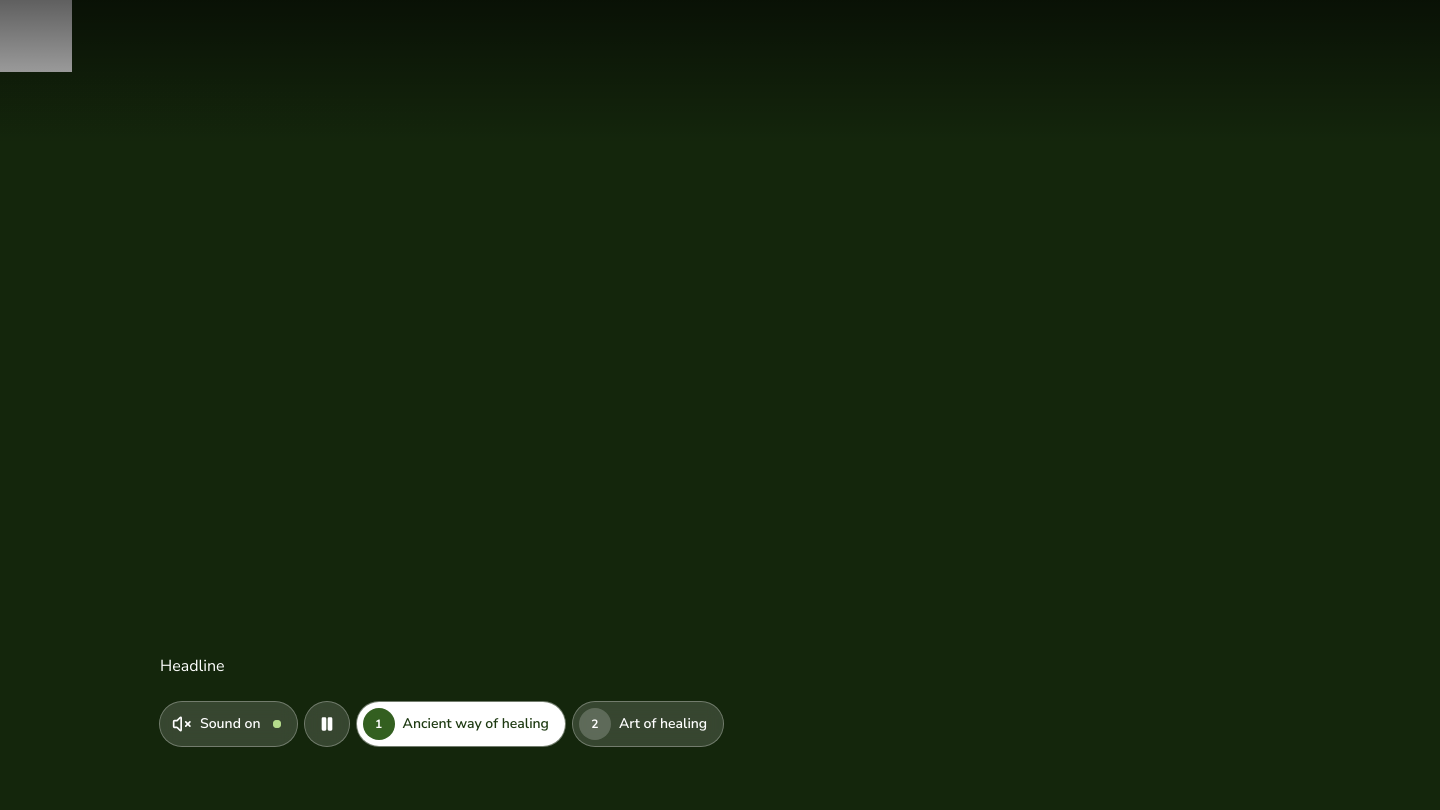
Test case: HeroVideo › pauses while the tab is hidden without treating it as blocked sound, then resumes
Step 1. Click the button "Sound on" → (228, 724), box [160,702,297,746]
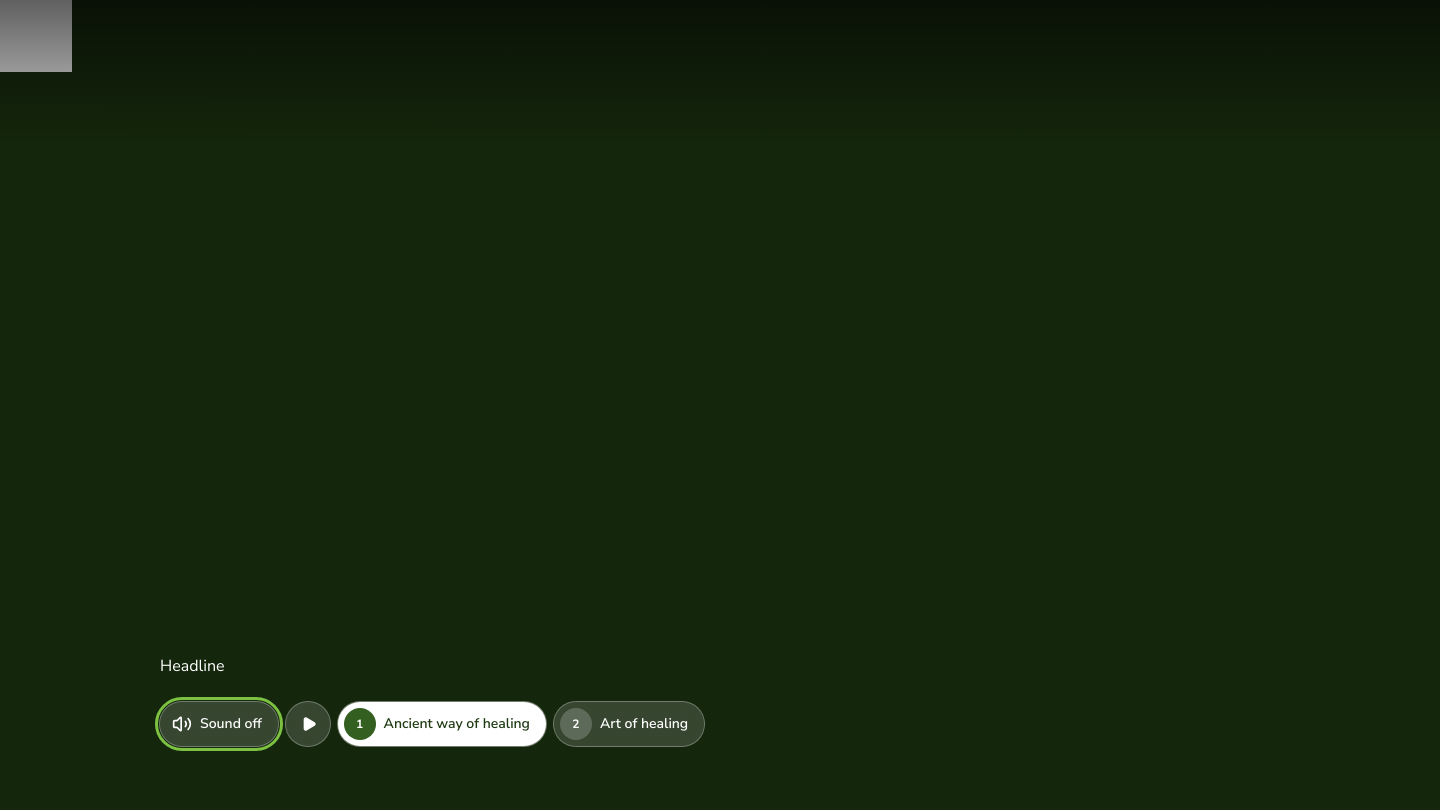
Check: the button "Sound off" is shown, box [160,702,278,746]
